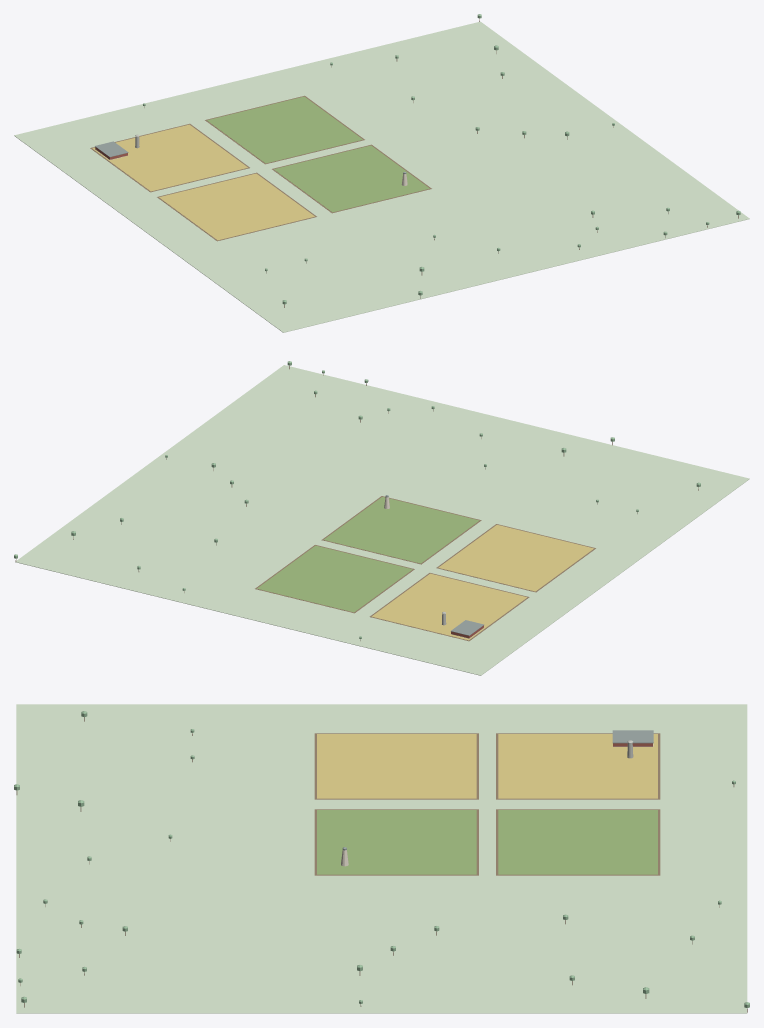
Rendered from chunk_1_3_low.glb.
The picture shows the model from 3 angles, top to bottom: view 1: azimuth 30°, elevation 25°; view 2: azimuth 150°, elevation 25°; view 3: azimuth 270°, elevation 25°; orthographic projection. The views are drawn at different scales.
Parts seen in each view (by area): view 1: city_grass, city_field_corn, city_field_wheat, city_field_soil; view 2: city_grass, city_field_corn, city_field_wheat, city_field_soil; view 3: city_grass, city_field_corn, city_field_wheat, city_field_soil, city_foliage_dark, city_roof_slate.
Boxes of the visible parts, x1,y1,x2,y2 form: city_grass: (14, 21, 749, 332); city_field_corn: (207, 96, 429, 212); city_field_wheat: (92, 124, 314, 240); city_field_soil: (90, 95, 431, 241); city_grass: (15, 365, 749, 675); city_field_corn: (257, 497, 479, 612); city_field_wheat: (372, 525, 593, 640); city_field_soil: (255, 496, 595, 641); city_grass: (16, 704, 747, 1013); city_field_corn: (317, 810, 657, 874); city_field_wheat: (317, 734, 657, 798); city_field_soil: (314, 733, 660, 875); city_foliage_dark: (14, 711, 749, 1008); city_roof_slate: (342, 730, 653, 850).
Bounding box in the file's own units: 513 × 13.98 × 516.
